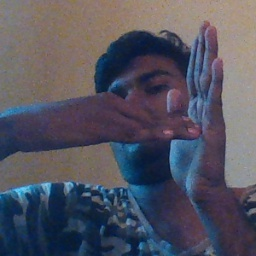Z: (111, 17, 231, 194)
